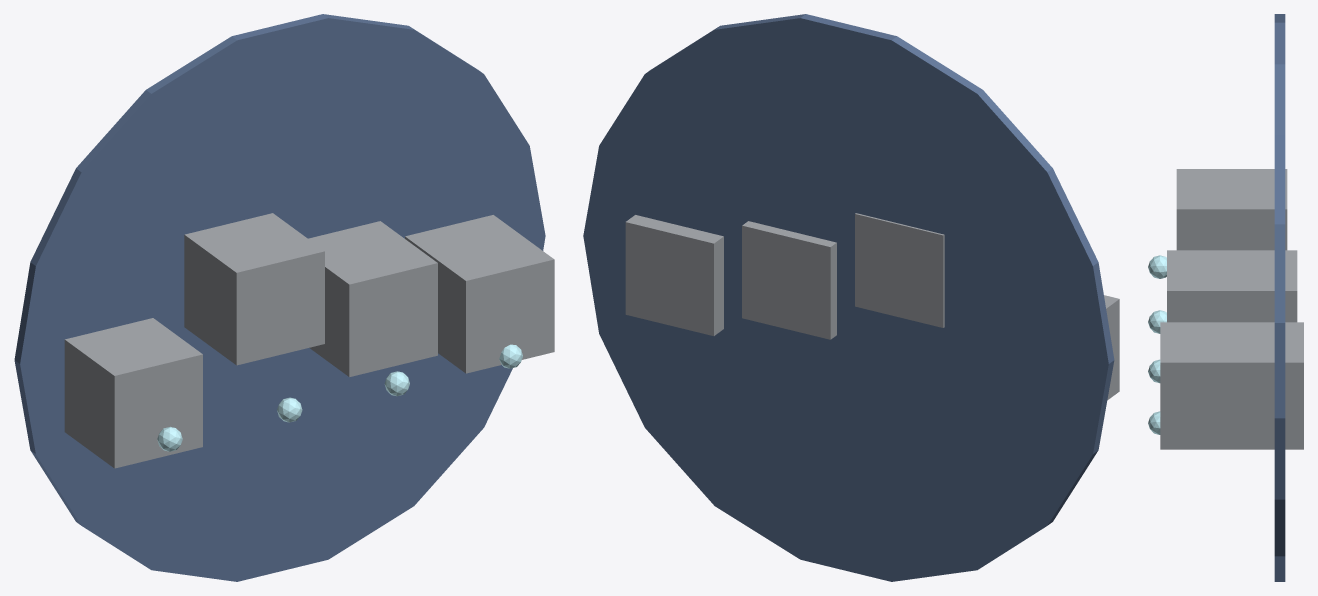
File: 02_local_prop_cluster.glb
3 renders of one model, left to right at view 1: azimuth 30°, elevation 25°; view 2: azimuth 150°, elevation 25°; view 3: azimuth 270°, elevation 25°, orthographic. The views are drawn at different scales.
Visible parts, largest first — view 1: scatter_base, tech_crate_1, tech_crate_0, tech_crate_3, tech_crate_2; view 2: scatter_base, tech_crate_3, tech_crate_2, tech_crate_1, tech_crate_0; view 3: tech_crate_3, tech_crate_2, tech_crate_1, scatter_base, status_light_0, status_light_1, status_light_3, status_light_2.
Part boxes in pixels (bbox=[...]): scatter_base: bbox=[14, 14, 545, 581]; tech_crate_1: bbox=[184, 213, 324, 365]; tech_crate_0: bbox=[64, 318, 202, 468]; tech_crate_3: bbox=[405, 215, 554, 373]; tech_crate_2: bbox=[308, 221, 437, 376]; scatter_base: bbox=[583, 14, 1114, 581]; tech_crate_3: bbox=[625, 215, 723, 335]; tech_crate_2: bbox=[742, 221, 836, 339]; tech_crate_1: bbox=[855, 213, 944, 327]; tech_crate_0: bbox=[1104, 295, 1119, 400]; tech_crate_3: bbox=[1160, 322, 1303, 449]; tech_crate_2: bbox=[1167, 250, 1297, 322]; tech_crate_1: bbox=[1176, 169, 1287, 250]; scatter_base: bbox=[1274, 14, 1285, 581]; status_light_0: bbox=[1148, 255, 1166, 278]; status_light_1: bbox=[1148, 310, 1166, 333]; status_light_3: bbox=[1148, 411, 1160, 434]; status_light_2: bbox=[1148, 359, 1160, 383].
Bounding box in the file's own units: 1.9 × 1.87 × 0.5196.
